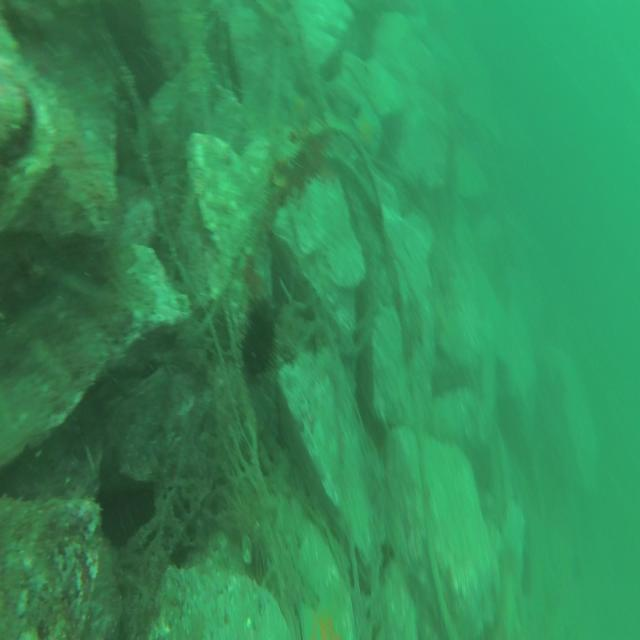echinus: (241, 302, 278, 379)
starfish: (294, 572, 348, 640), (280, 80, 323, 132), (351, 100, 384, 154)
